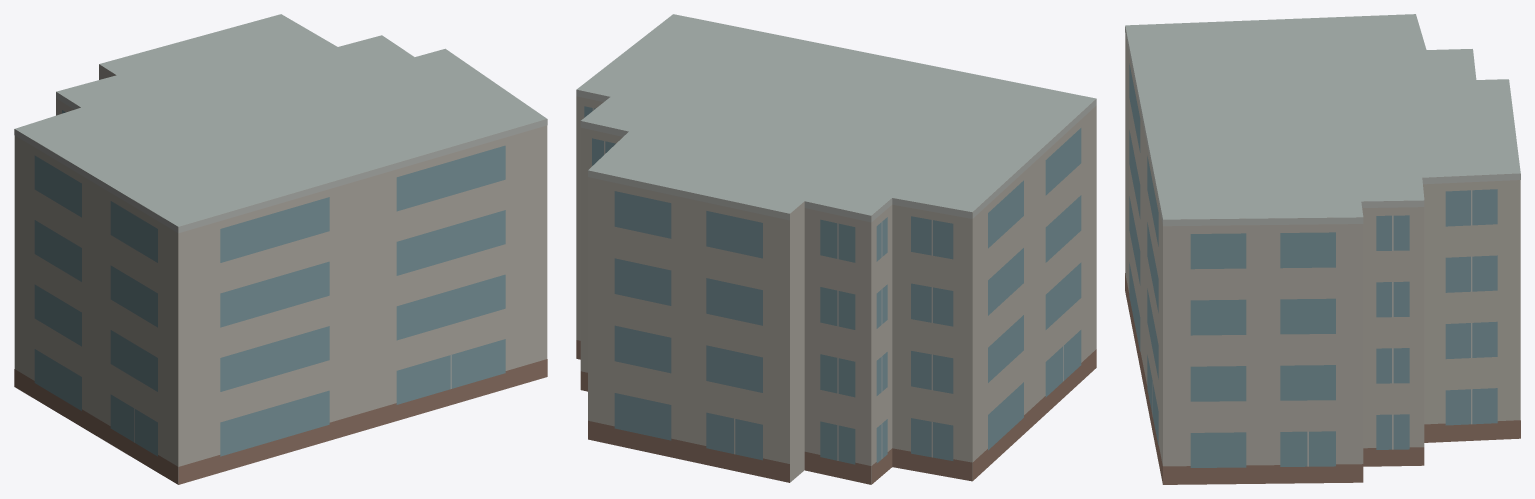
File: survey-upis-32747155.glb
The picture shows the model from 3 angles, left to right: view 1: azimuth 30°, elevation 25°; view 2: azimuth 150°, elevation 25°; view 3: azimuth 270°, elevation 25°; orthographic projection. The views are drawn at different scales.
Parts seen in each view (by area): view 1: survey-upis-32747155.tmp; view 2: survey-upis-32747155.tmp; view 3: survey-upis-32747155.tmp.
Boxes of the visible parts, x1,y1,x2,y2 form: survey-upis-32747155.tmp: [14, 14, 547, 484]; survey-upis-32747155.tmp: [576, 14, 1096, 484]; survey-upis-32747155.tmp: [1125, 14, 1520, 484].
Bounding box in the file's own units: 16.31 × 9.8 × 13.26.
